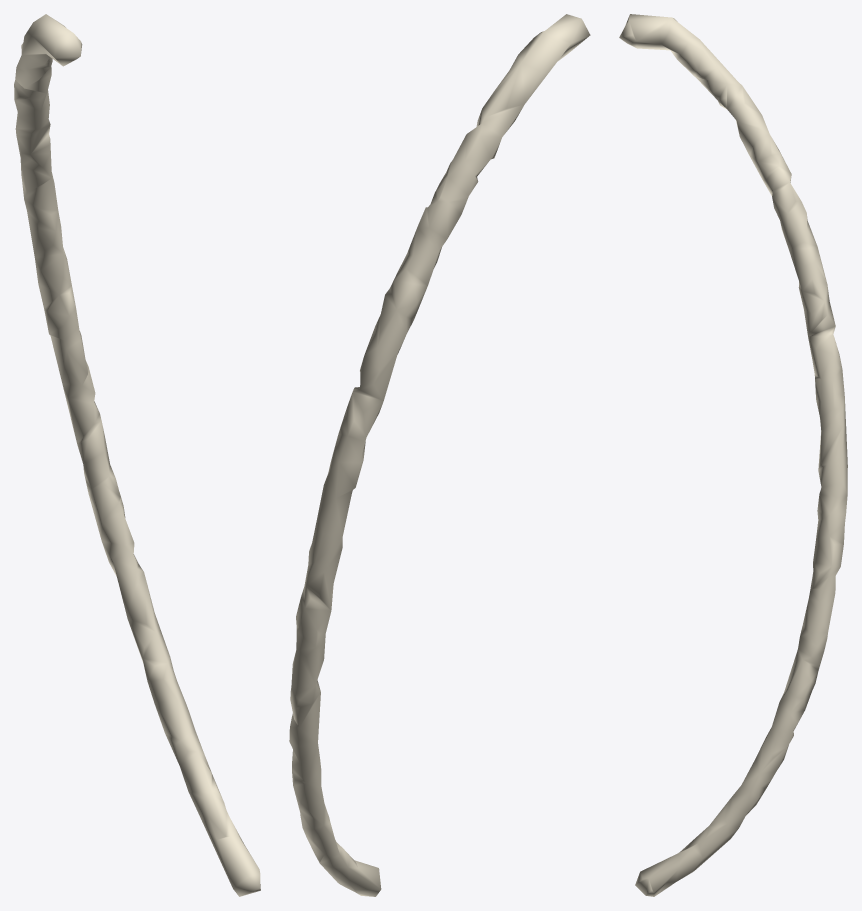
Rendered from rib_5_r.glb.
The picture shows the model from 3 angles, left to right: view 1: azimuth 30°, elevation 25°; view 2: azimuth 150°, elevation 25°; view 3: azimuth 270°, elevation 25°; orthographic projection. The views are drawn at different scales.
Visible parts, largest first — view 1: geometry_0; view 2: geometry_0; view 3: geometry_0.
Part boxes in pixels (x1,y1,x2,y2): geometry_0: (14,14,260,896); geometry_0: (289,14,590,896); geometry_0: (619,14,847,896).
Bounding box in the file's own units: 0.3271 × 1.29 × 0.3347.
